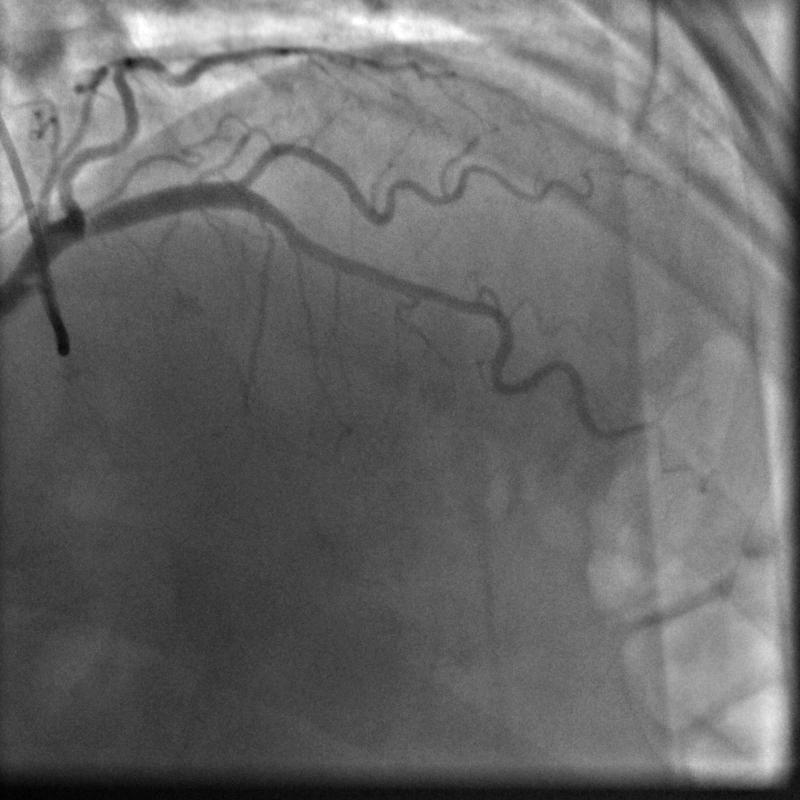Stenosis: (426, 285, 505, 325)
